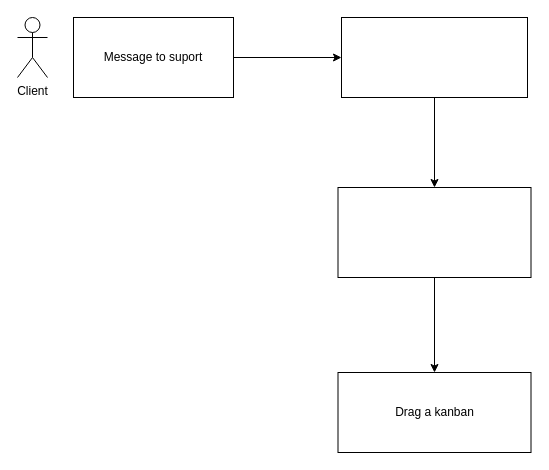
Image size: 549x470. Some labels were removed from this diagram. Each missing label, with the box of its shape:
Parametters to categorize accourding of SLA red,green,yellow: (337, 186, 531, 278)
Proccess message and notify support: (340, 16, 528, 98)
